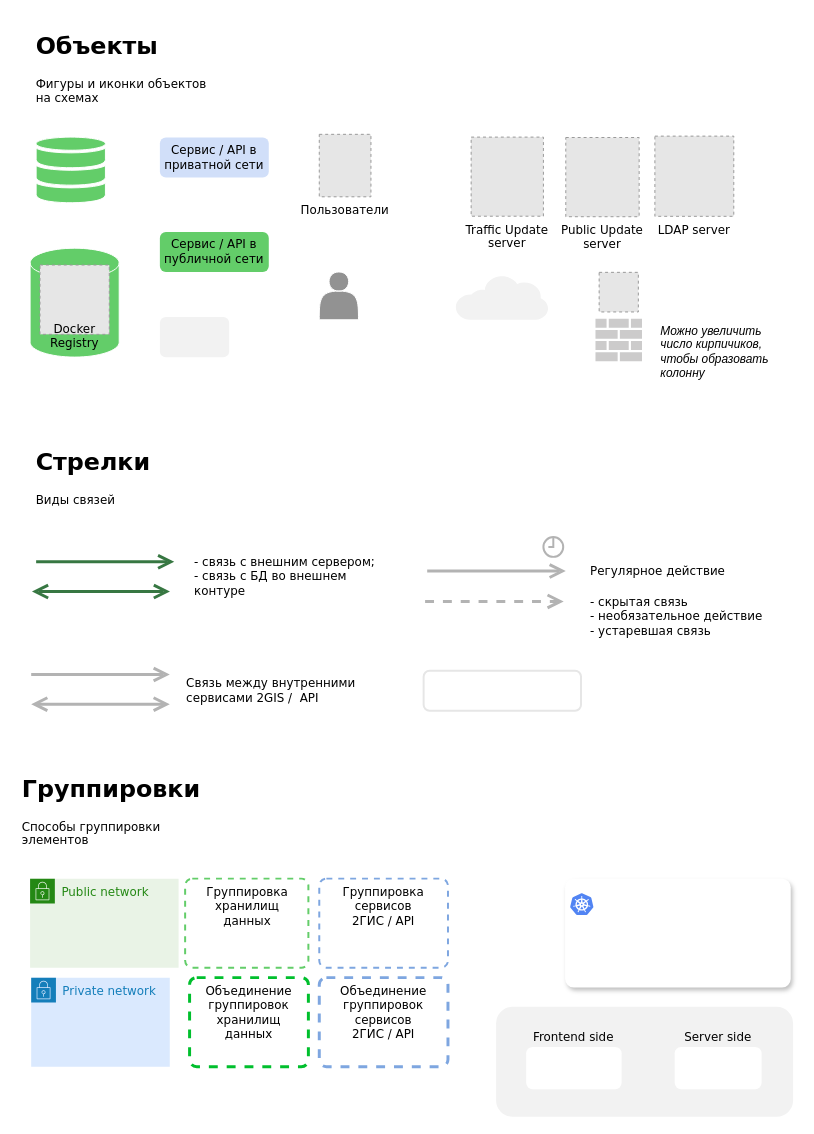
This 814x1134 diagram has some shape labels left out. Grey dashed boxes stand in for pictures. Here are the shapes that lost their labels. From the top down, the centre of each, then its label:
At point 70,169: "БД".
At point 338,295: "Роль в системе".
At point 501,297: "Internet".
At point 194,337: "Скрипт".
At point 618,339: "Firewall".
At point 502,690: "Подпись над стрелкой".
At point 581,903: "Deployed applications Kubernetes cluster".
